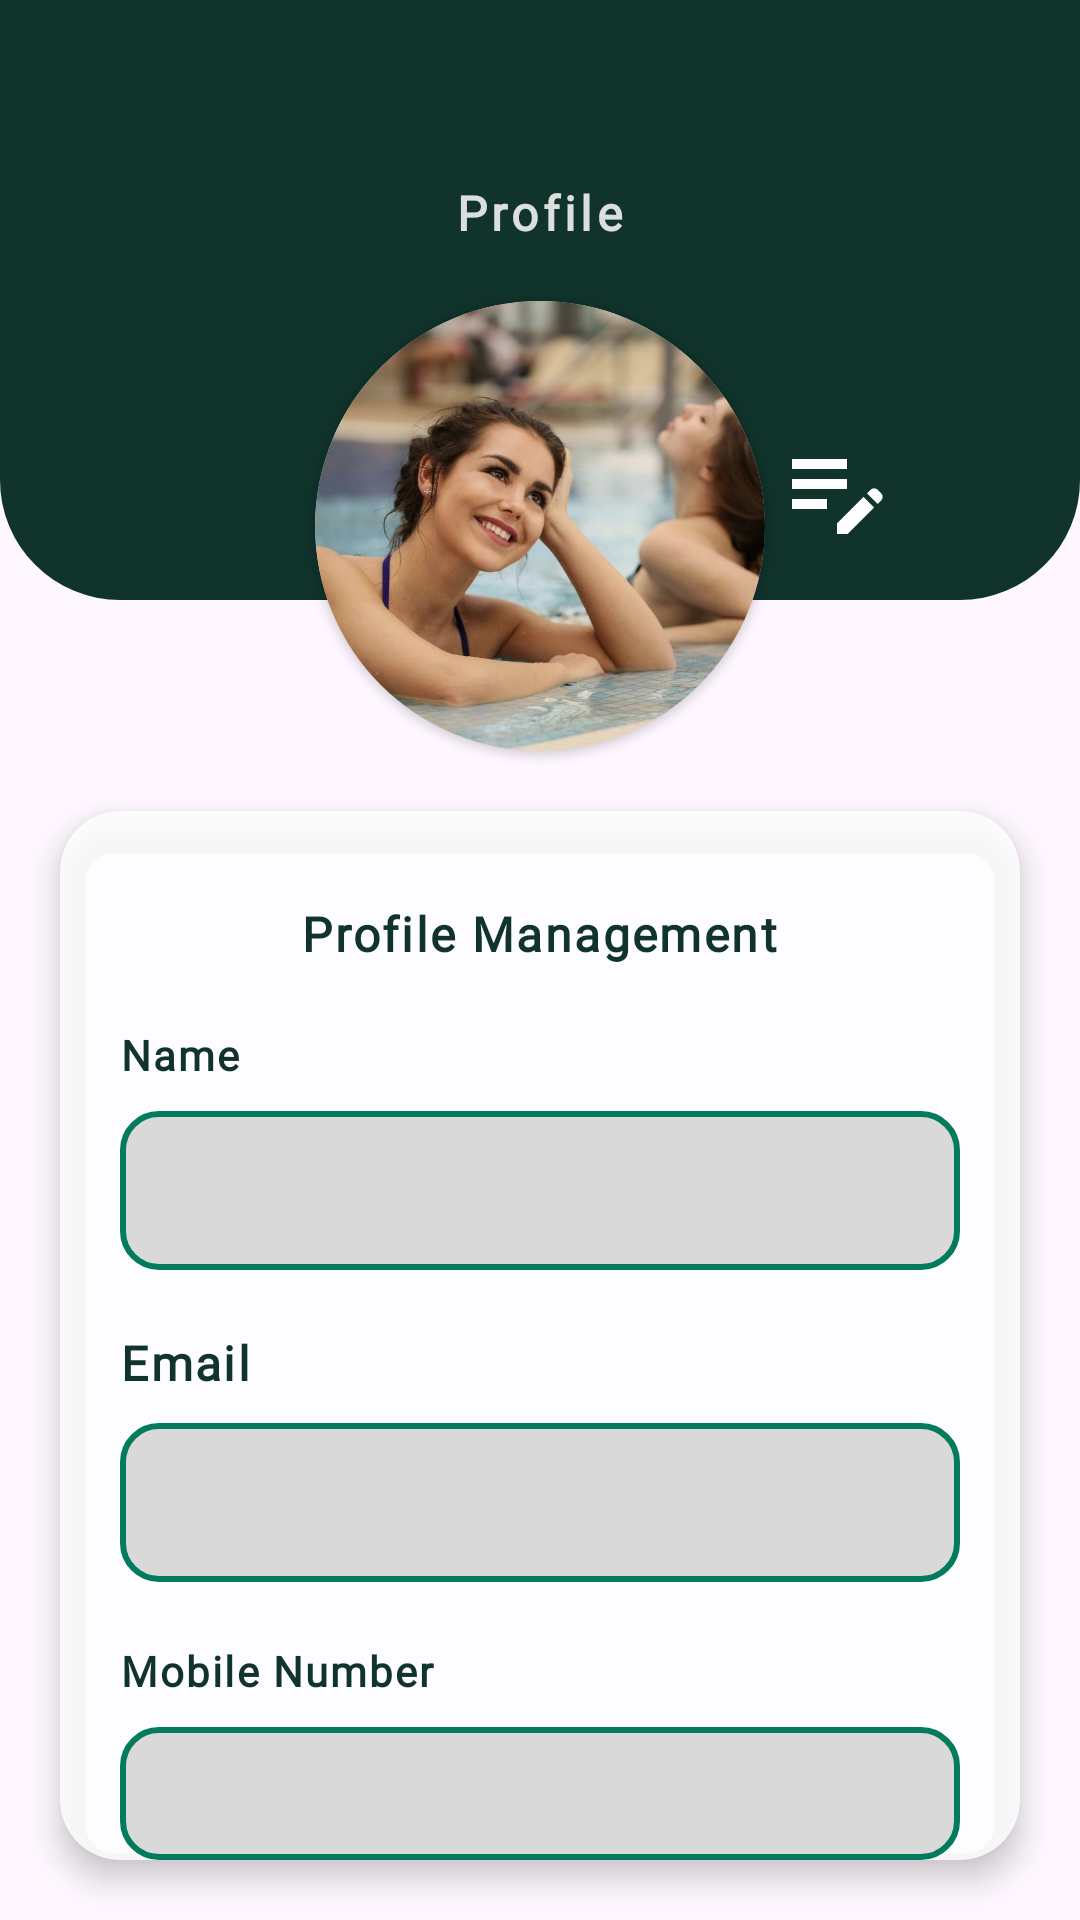

Icons on this 1080px x 1920px Android screen, each with the point to tap as (x=x, y=y):
edit: (x=837, y=496)
